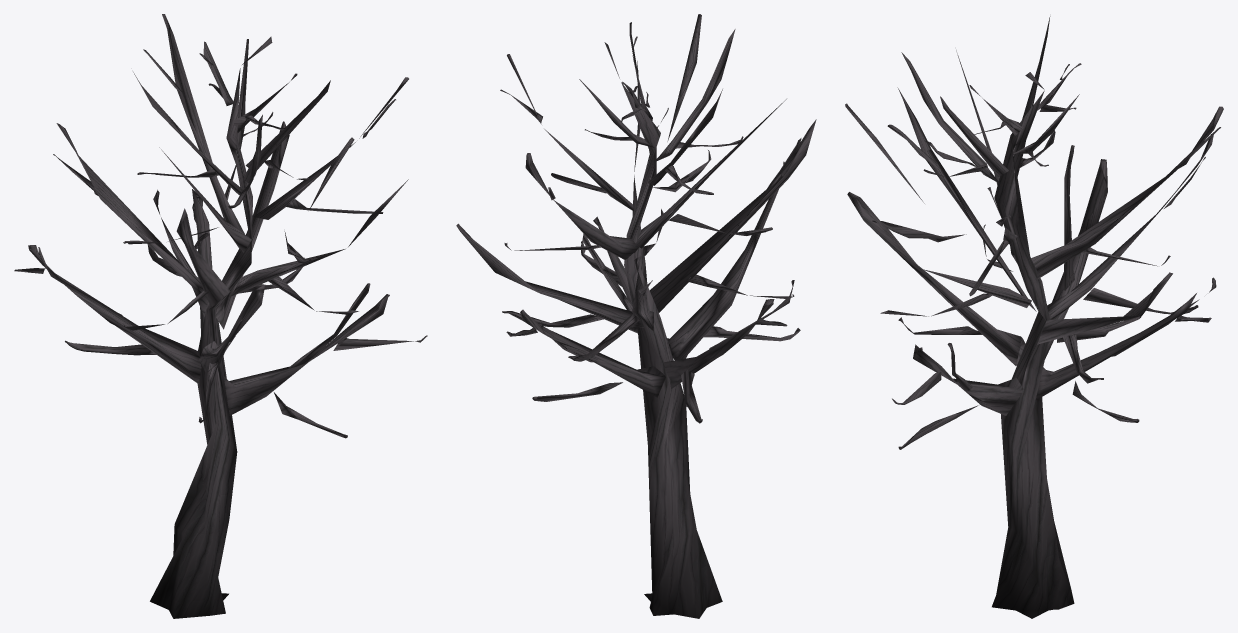
File: DeadTree_1@lod.gltf
3 views of the same model, side by side, from view 1: azimuth 30°, elevation 25°; view 2: azimuth 150°, elevation 25°; view 3: azimuth 270°, elevation 25° (orthographic). The views are drawn at different scales.
Parts seen in each view (by area): view 1: DeadTree_1; view 2: DeadTree_1; view 3: DeadTree_1.
Part boxes in pixels (x1,y1,x2,y2): DeadTree_1: [14, 14, 427, 618]; DeadTree_1: [456, 14, 816, 618]; DeadTree_1: [845, 16, 1223, 618].
Bounding box in the file's own units: 6.14 × 9.48 × 5.74.
Materials: 1 (1 with a texture image).
